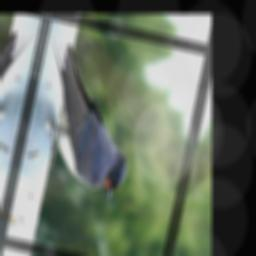Swallow: (13, 21, 153, 204)
